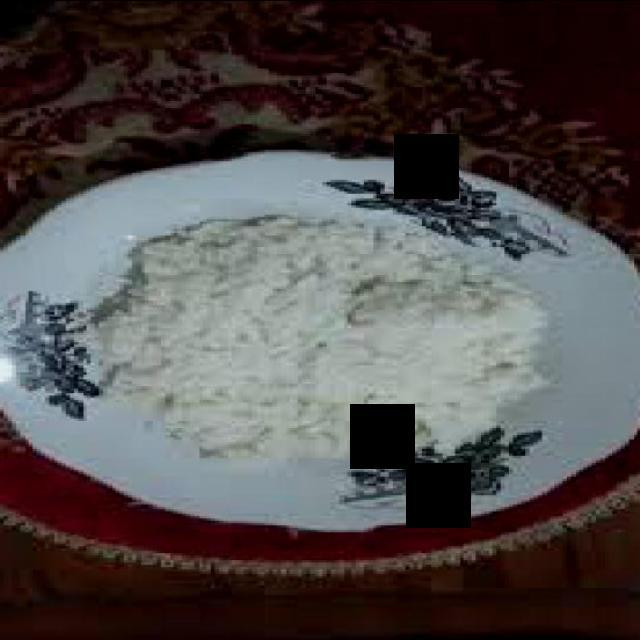rice: (87, 218, 555, 460)
